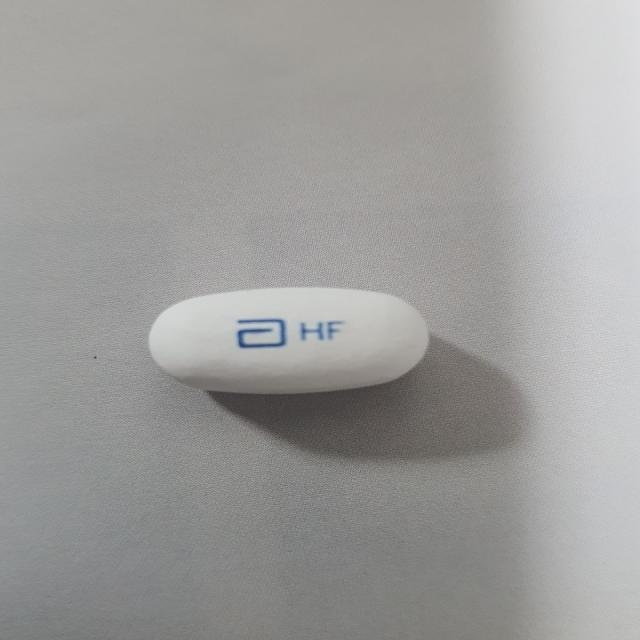pill: (142, 266, 446, 412)
